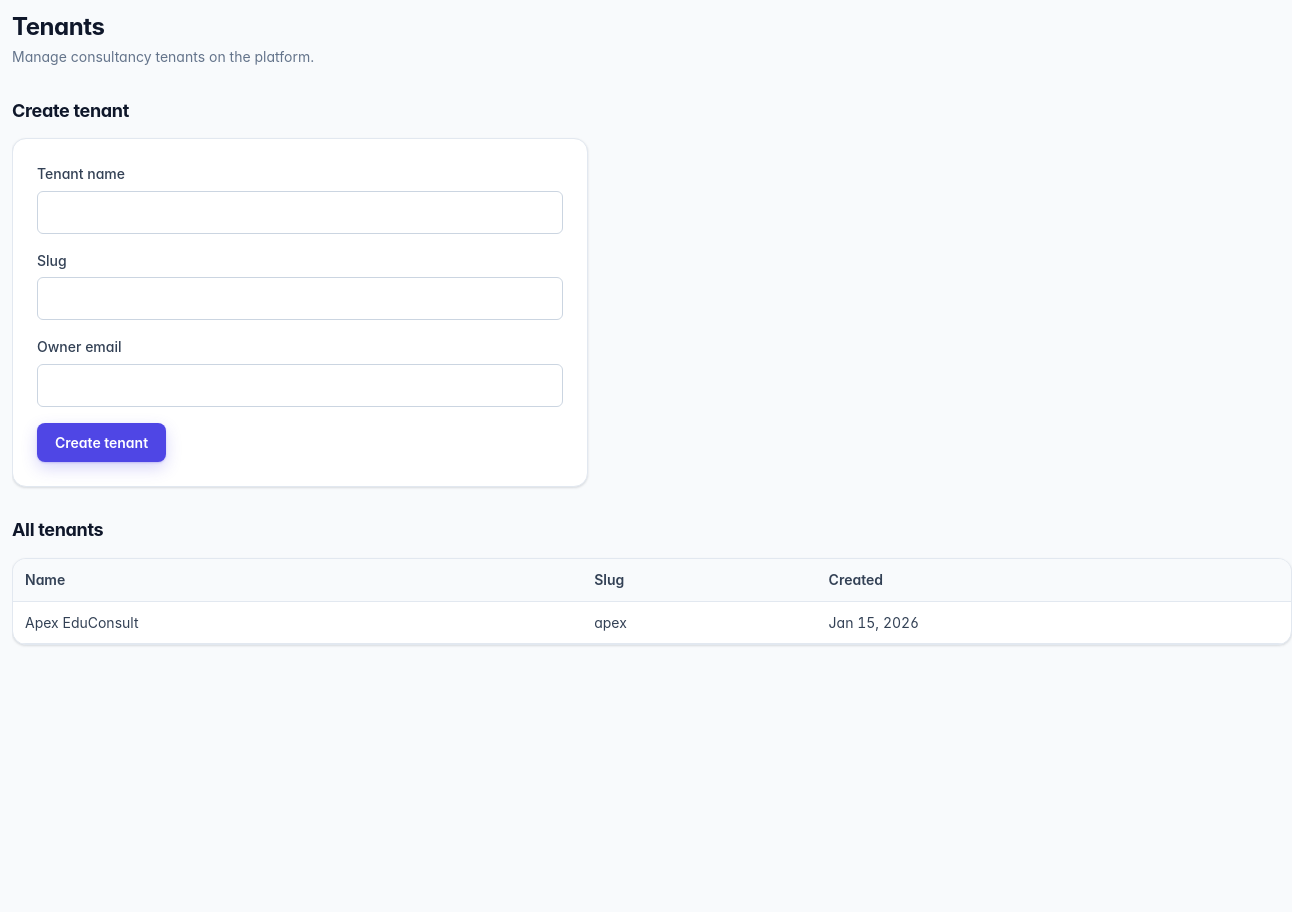
it: TenantsPage › creates a tenant and shows success message
Type "Bright Future" into the field with test id "tenant-name".
click(300, 212); type("Bright Future")  # box [37,191,563,234]
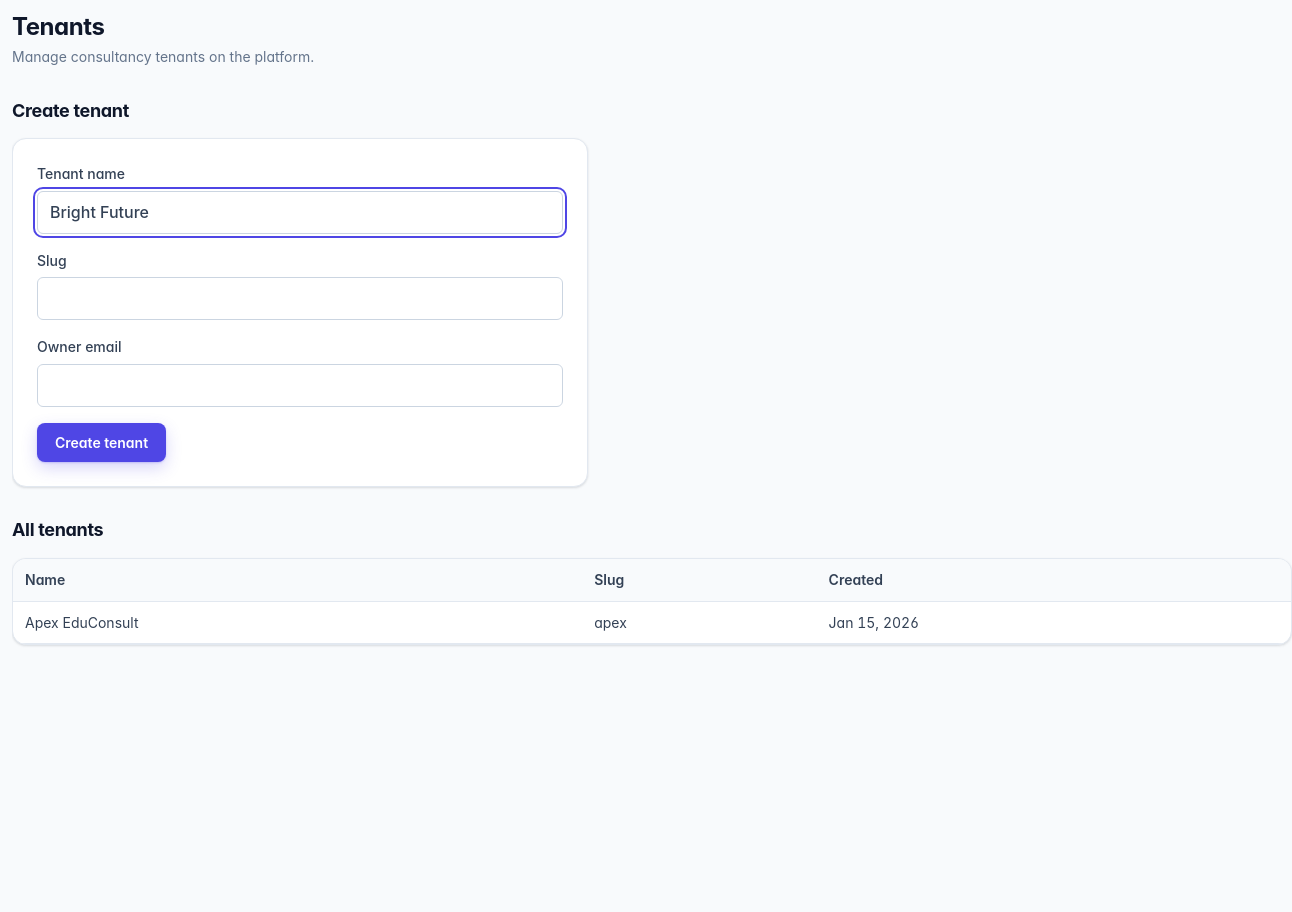
Type "bright-future" into the field with test id "tenant-slug".
click(300, 299); type("bright-future")  # box [37,277,563,320]
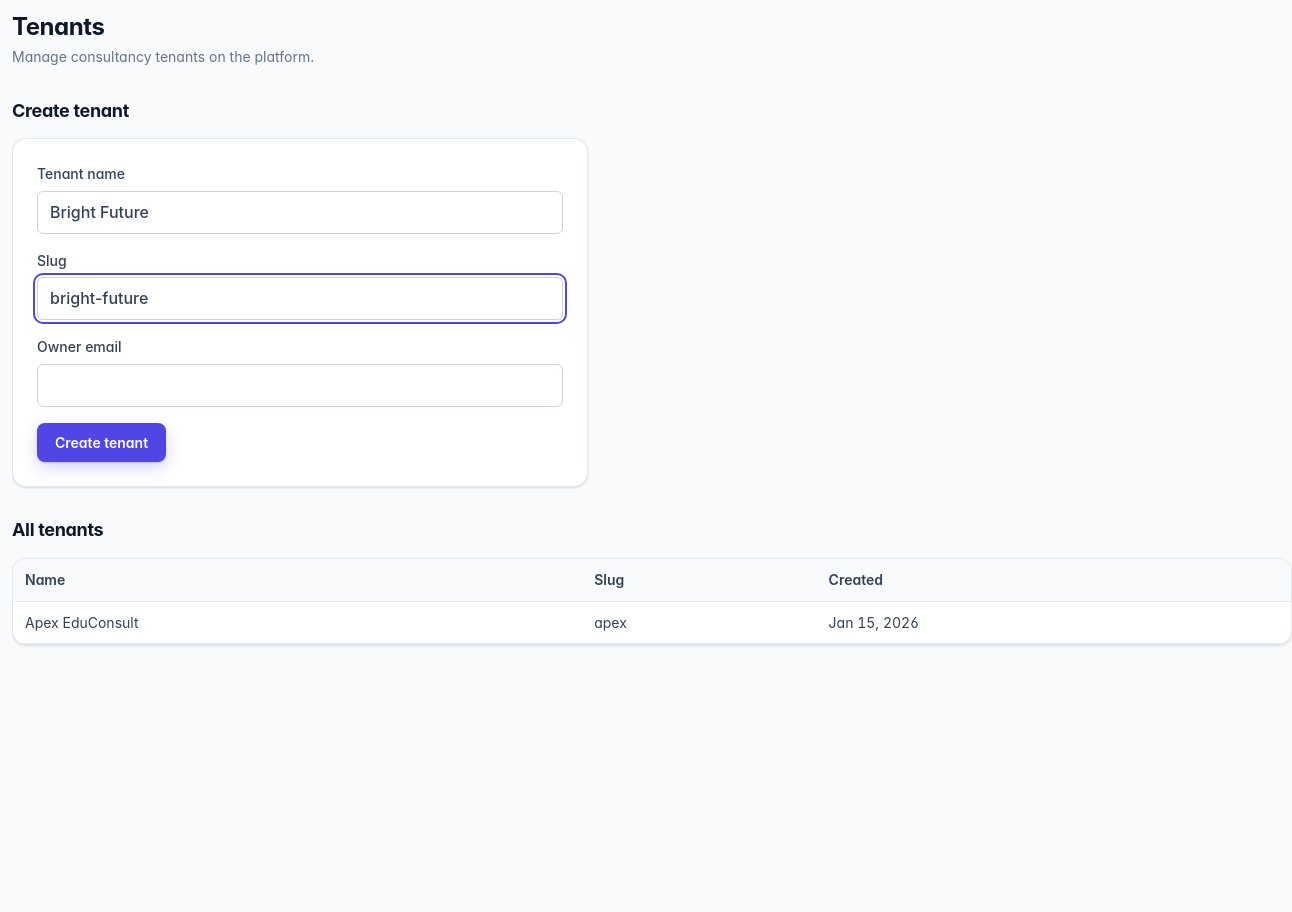
Type "owner@bright.test" into the field with test id "tenant-owner-email".
click(300, 385); type("owner@bright.test")  # box [37,364,563,407]
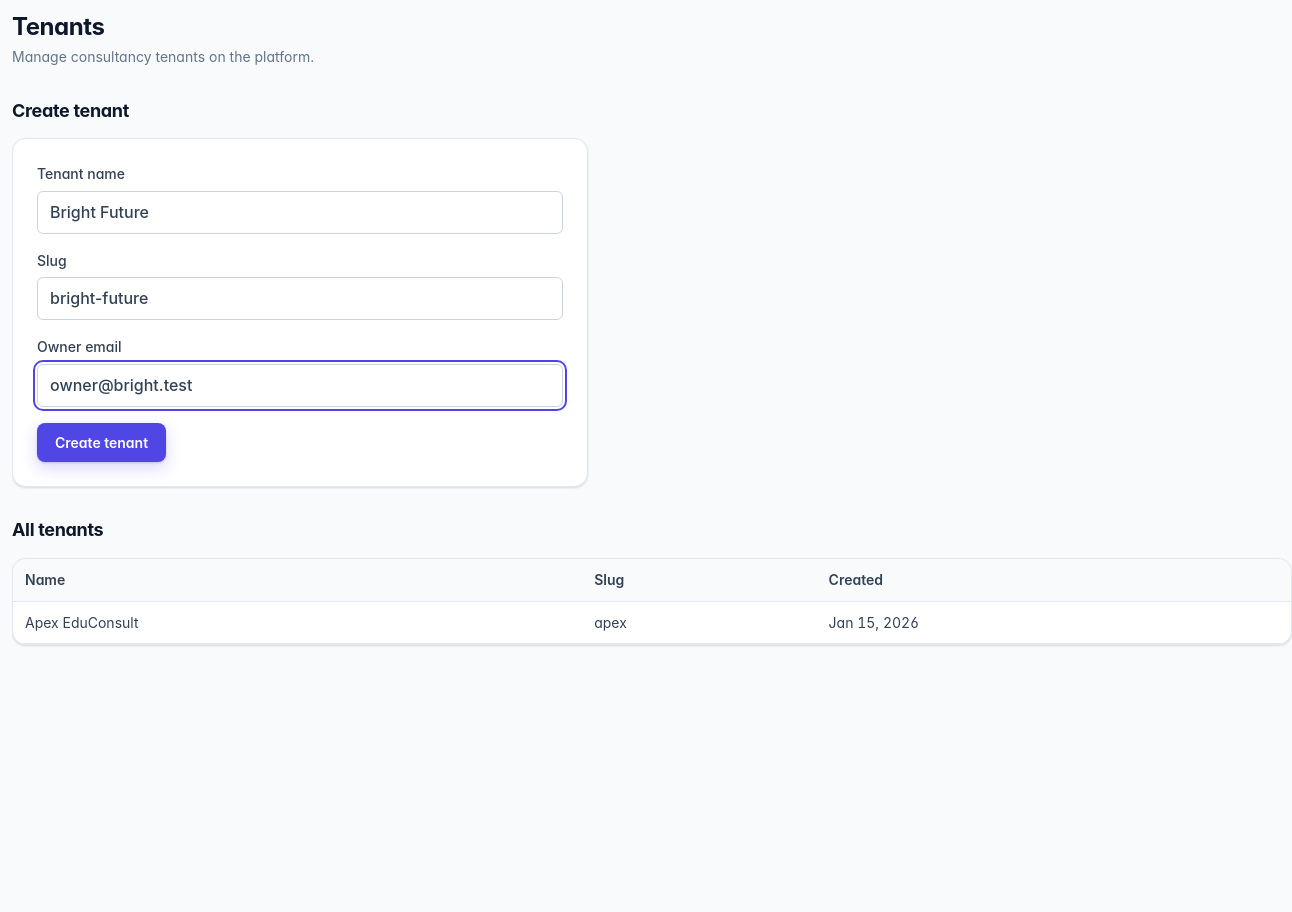
Click the button with test id "tenant-create-submit".
click(102, 442)  # box [37,423,166,462]
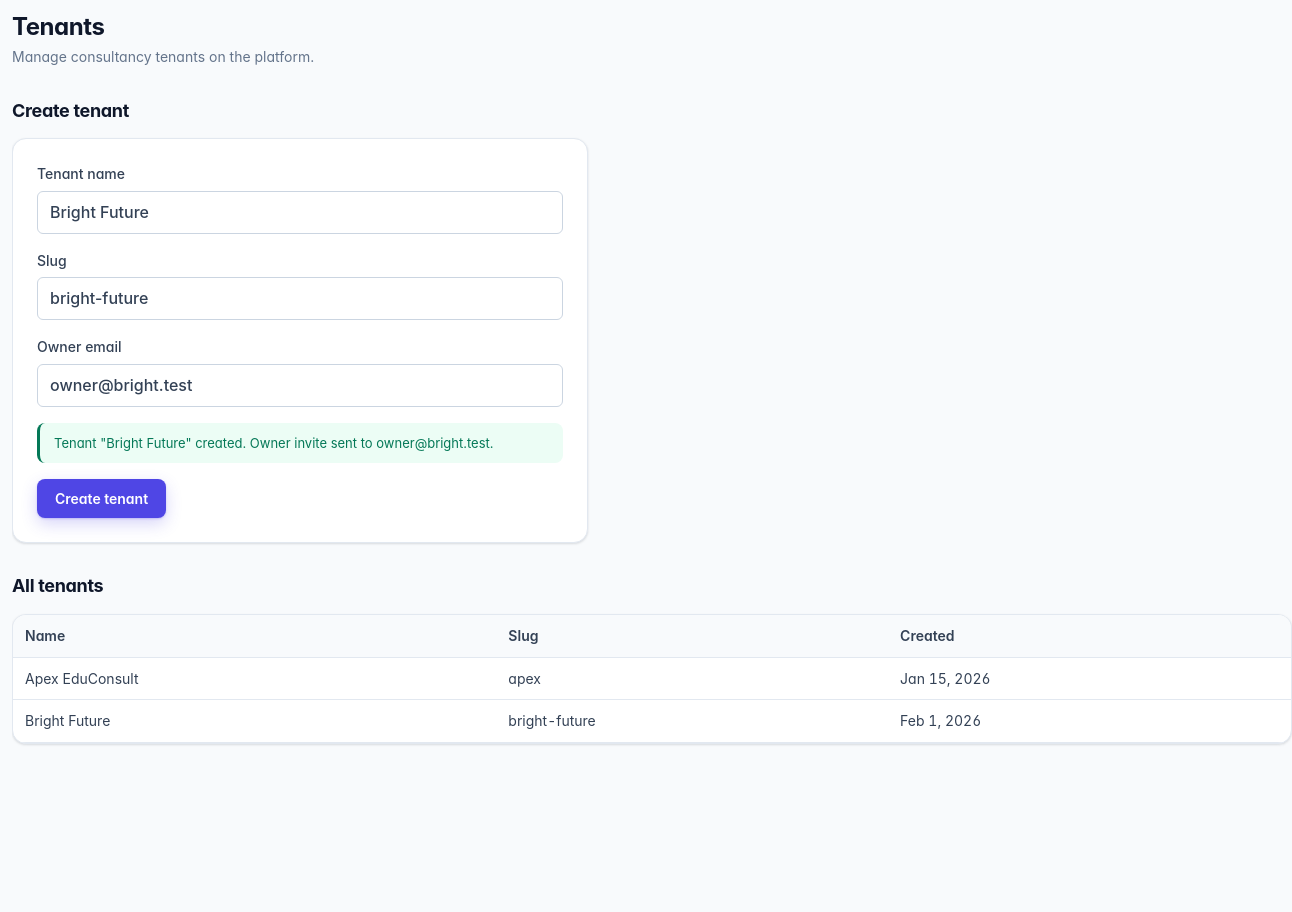
Check: the message "Tenant \"Bright Future\" created. Owner invite sent to owner@bright.test." is shown, box [37,423,563,463]
Check: the message with test id "tenant-create-success" shows "Tenant \"Bright Future\" created", box [54,435,494,451]
Check: the text "Bright Future" is shown, box [13,700,496,742]
